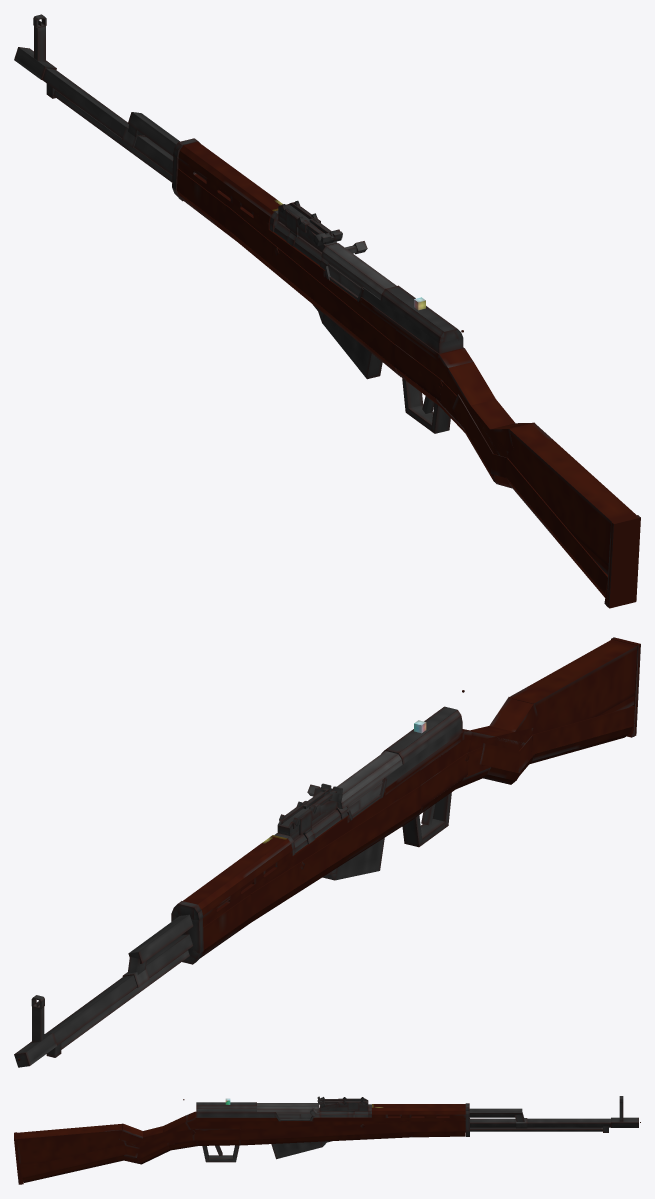
Rendered from a4_sks.geo.fbx.
3 renders of one model, top to bottom at view 1: azimuth 30°, elevation 25°; view 2: azimuth 150°, elevation 25°; view 3: azimuth 270°, elevation 25°, orthographic. The views are drawn at different scales.
Visible parts, largest first — view 1: gun, back, bone3, bone9, bolt, bone, bone5, bone7; view 2: gun, back, bone3, bone9, bolt, bone, bone5, bone7, bone10, bone6; view 3: gun, back, bone3, bone9, bone, bolt, bone5, bone7, bone6, bone8.
Part boxes in pixels (x1,y1,x2,y2): gun: (14, 14, 473, 433); back: (444, 362, 640, 608); bone3: (225, 205, 400, 376); bone9: (504, 458, 607, 597); bolt: (321, 241, 396, 299); bone: (177, 168, 235, 240); bone5: (394, 344, 441, 405); bone7: (452, 394, 496, 483); gun: (14, 706, 472, 1067); back: (462, 637, 640, 752); bone3: (250, 786, 421, 922); bone9: (530, 706, 634, 763); bolt: (307, 751, 402, 814); bone: (201, 894, 255, 957); bone5: (417, 753, 467, 816); bone7: (479, 743, 521, 784); bone10: (171, 913, 203, 964); bone6: (456, 747, 491, 789); gun: (186, 1096, 638, 1162); back: (14, 1115, 190, 1184); bone3: (240, 1121, 414, 1145); bone9: (20, 1144, 127, 1182); bone: (410, 1121, 465, 1137); bolt: (257, 1103, 318, 1118); bone5: (192, 1129, 240, 1145); bone7: (137, 1130, 180, 1164); bone6: (167, 1129, 198, 1150); bone8: (124, 1144, 140, 1164).
Size of the model in its own units: 33.33 by 126 by 849.
Materials: 1 (1 with a texture image).
